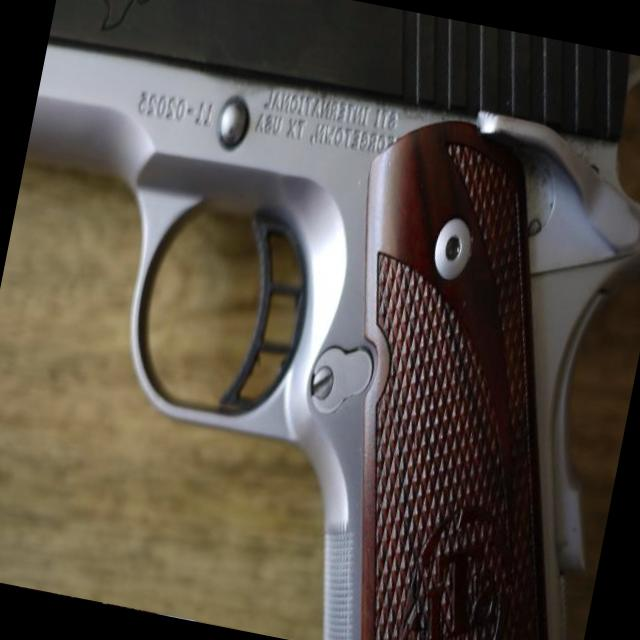Gun: (26, 0, 640, 640)
